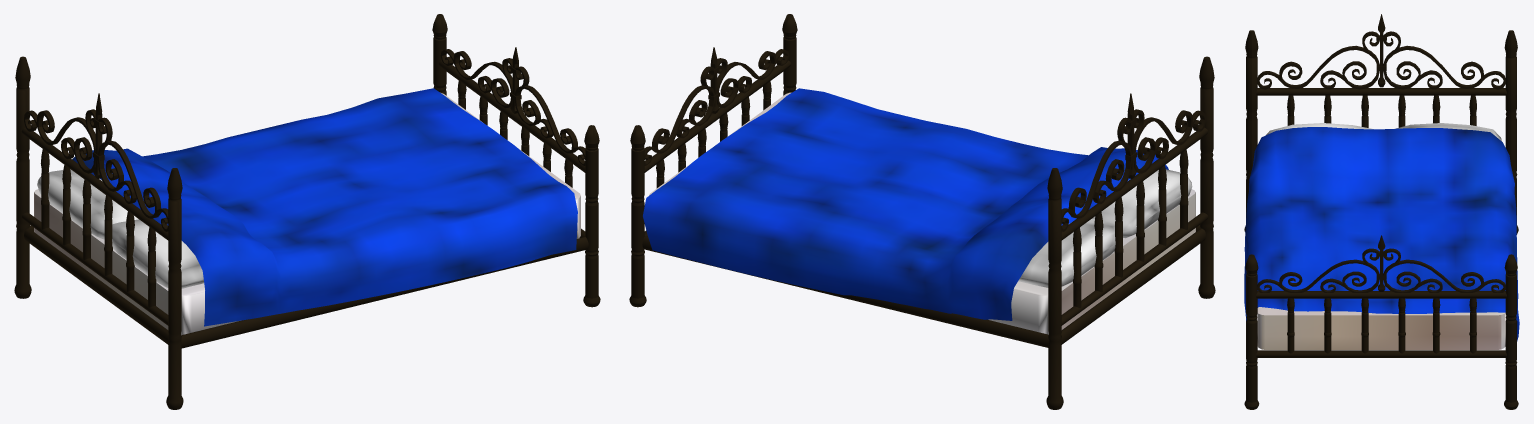
The model's file is Bed 1.fbx.
3 renders of one model, left to right at view 1: azimuth 30°, elevation 25°; view 2: azimuth 150°, elevation 25°; view 3: azimuth 270°, elevation 25°, orthographic. The views are drawn at different scales.
Visible parts, largest first — view 1: Plane.002, Cama-Metal, Cube, Cube.002, Cube.001; view 2: Plane.002, Cama-Metal, Cube, Cube.001, Cube.002; view 3: Plane.002, Cama-Metal, Cube, Cube.001, Cube.002.
Part boxes in pixels (left/top/right/bottom): Plane.002: left=72, top=88, right=577, bottom=326; Cama-Metal: left=14, top=14, right=600, bottom=409; Cube: left=34, top=93, right=580, bottom=334; Cube.002: left=112, top=219, right=204, bottom=288; Cube.001: left=37, top=169, right=138, bottom=239; Plane.002: left=643, top=88, right=1168, bottom=320; Cama-Metal: left=629, top=14, right=1215, bottom=409; Cube: left=649, top=92, right=1195, bottom=334; Cube.001: left=1018, top=219, right=1123, bottom=287; Cube.002: left=1092, top=169, right=1192, bottom=238; Plane.002: left=1244, top=127, right=1519, bottom=341; Cama-Metal: left=1244, top=14, right=1518, bottom=409; Cube: left=1257, top=307, right=1506, bottom=349; Cube.001: left=1395, top=123, right=1501, bottom=141; Cube.002: left=1266, top=123, right=1373, bottom=134.
Bounding box in the file's own units: 842 × 480 × 544.
